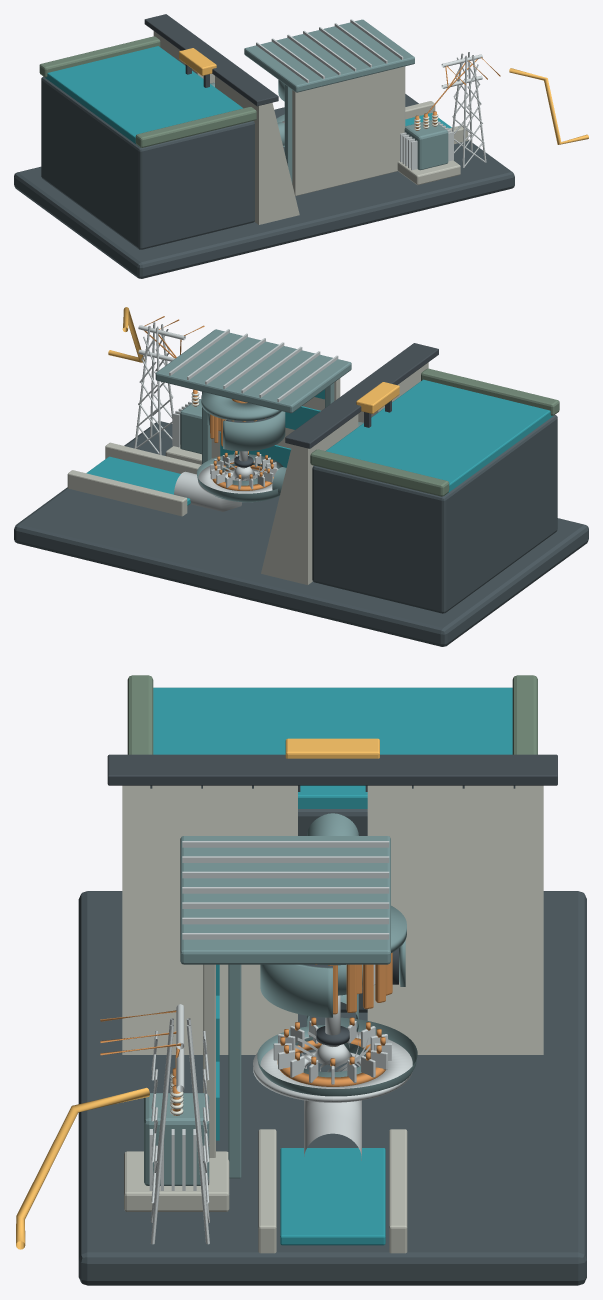
Rendered from hydroelectric-blockout.glb.
3 renders of one model, top to bottom at view 1: azimuth 30°, elevation 25°; view 2: azimuth 150°, elevation 25°; view 3: azimuth 270°, elevation 25°, orthographic. The views are drawn at different scales.
Visible parts, largest first — view 1: terrain__Basalt, powerhouse__Concrete, reservoir__Water, roof__Steel, dam__Concrete, terrain__Moss, dam__Graphite, grid__Silver, roof__Silver, transformer__Steel, transformer__Concrete, transformer__Silver (+4 smaller); view 2: terrain__Basalt, reservoir__Water, roof__Steel, dam__Concrete, terrain__Moss, dam__Graphite, tailrace__Concrete, roof__Silver, grid__Silver, generator_stator__Steel, tailrace__Water, generator_cover__Steel (+9 smaller); view 3: terrain__Basalt, dam__Concrete, reservoir__Water, roof__Steel, dam__Graphite, roof__Silver, tailrace__Water, tailrace__Concrete, grid__Silver, terrain__Moss, transformer__Concrete, transformer__Steel (+13 smaller).
Boxes of the visible parts, bbox=[...] form: terrain__Basalt: bbox=[14, 76, 514, 278]; powerhouse__Concrete: bbox=[292, 66, 405, 195]; reservoir__Water: bbox=[45, 46, 242, 146]; roof__Steel: bbox=[244, 19, 414, 92]; dam__Concrete: bbox=[153, 31, 299, 224]; terrain__Moss: bbox=[39, 36, 256, 147]; dam__Graphite: bbox=[144, 14, 278, 106]; grid__Silver: bbox=[441, 52, 486, 167]; roof__Silver: bbox=[256, 19, 403, 82]; transformer__Steel: bbox=[404, 120, 448, 170]; transformer__Concrete: bbox=[397, 160, 460, 184]; transformer__Silver: bbox=[400, 121, 453, 170]; terrain__Basalt: bbox=[14, 415, 588, 646]; reservoir__Water: bbox=[325, 379, 552, 493]; roof__Steel: bbox=[155, 329, 351, 413]; dam__Concrete: bbox=[261, 362, 428, 584]; terrain__Moss: bbox=[310, 368, 559, 496]; dam__Graphite: bbox=[285, 343, 438, 448]; tailrace__Concrete: bbox=[67, 442, 200, 516]; roof__Silver: bbox=[169, 329, 338, 402]; grid__Silver: bbox=[134, 322, 185, 454]; generator_stator__Steel: bbox=[207, 411, 285, 451]; tailrace__Water: bbox=[86, 456, 190, 505]; generator_cover__Steel: bbox=[201, 392, 281, 421]; terrain__Basalt: bbox=[78, 809, 586, 1285]; dam__Concrete: bbox=[122, 785, 543, 1054]; reservoir__Water: bbox=[153, 687, 512, 808]; roof__Steel: bbox=[180, 836, 390, 964]; dam__Graphite: bbox=[107, 754, 557, 791]; roof__Silver: bbox=[182, 841, 389, 939]; tailrace__Water: bbox=[280, 1148, 385, 1245]; tailrace__Concrete: bbox=[258, 1129, 407, 1253]; grid__Silver: bbox=[150, 1004, 209, 1244]; terrain__Moss: bbox=[127, 675, 537, 754]; transformer__Concrete: bbox=[124, 1151, 229, 1211]; transformer__Steel: bbox=[144, 1093, 209, 1185].
Size of the model in its own units: 13.8 by 4.47 by 7.87.
